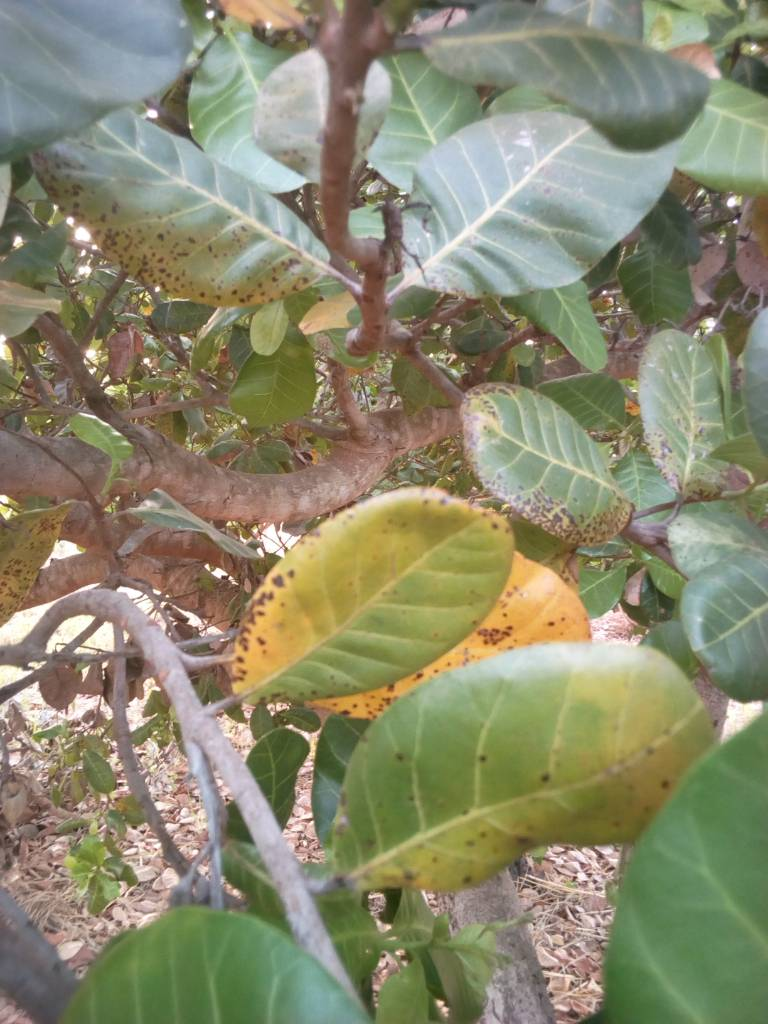Anthracnose: (327, 619, 683, 889), (230, 489, 511, 708), (40, 110, 333, 313), (452, 382, 638, 552)
